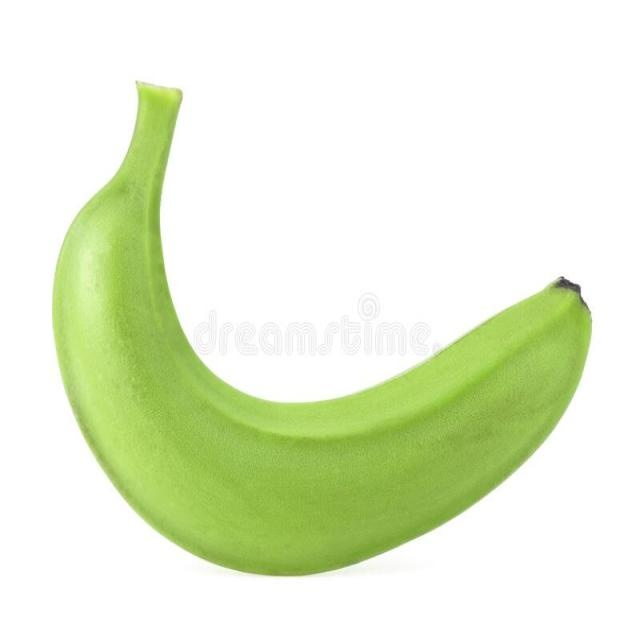agrume: (56, 84, 593, 577)
